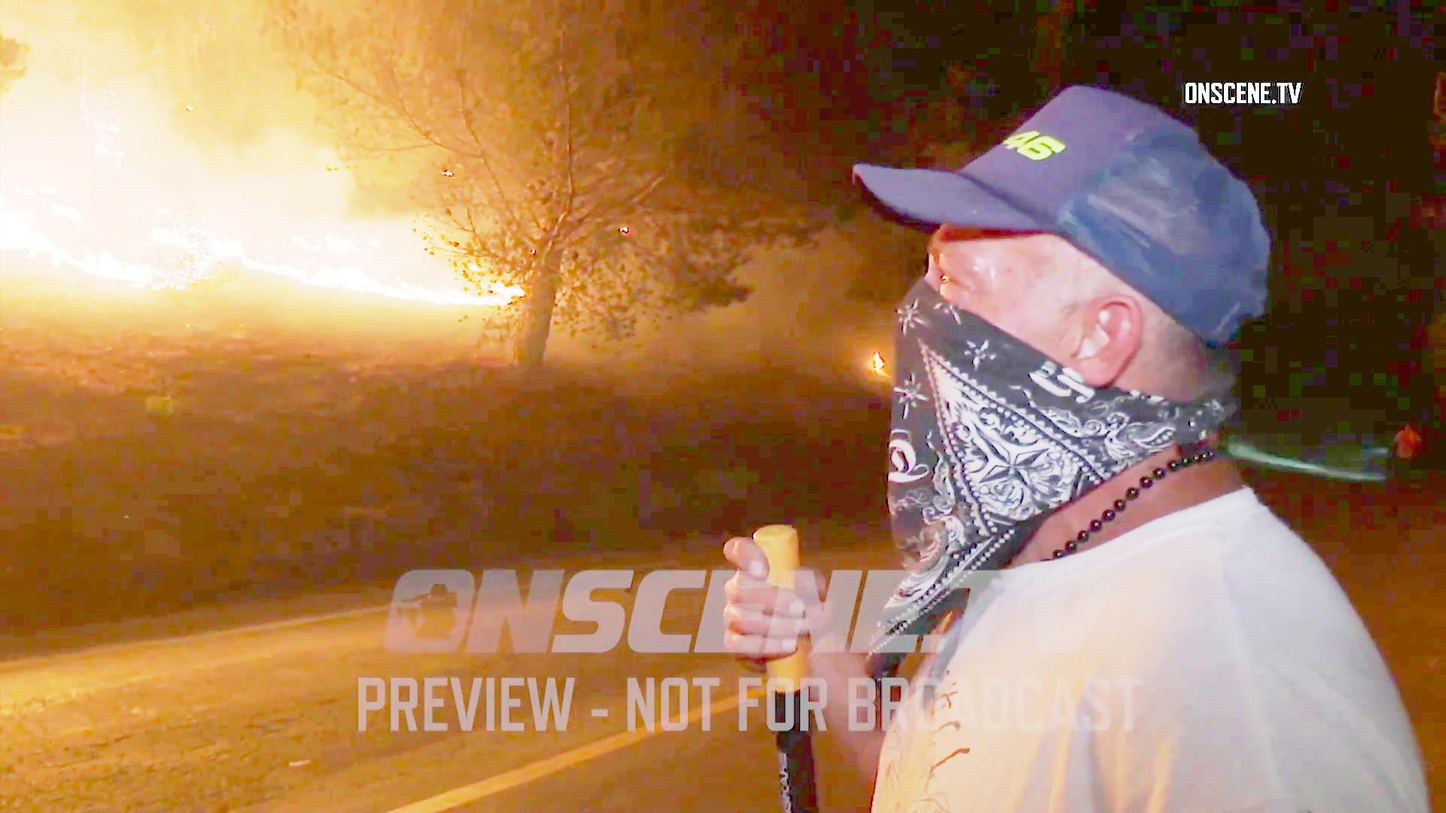fire: (0, 187, 242, 288)
